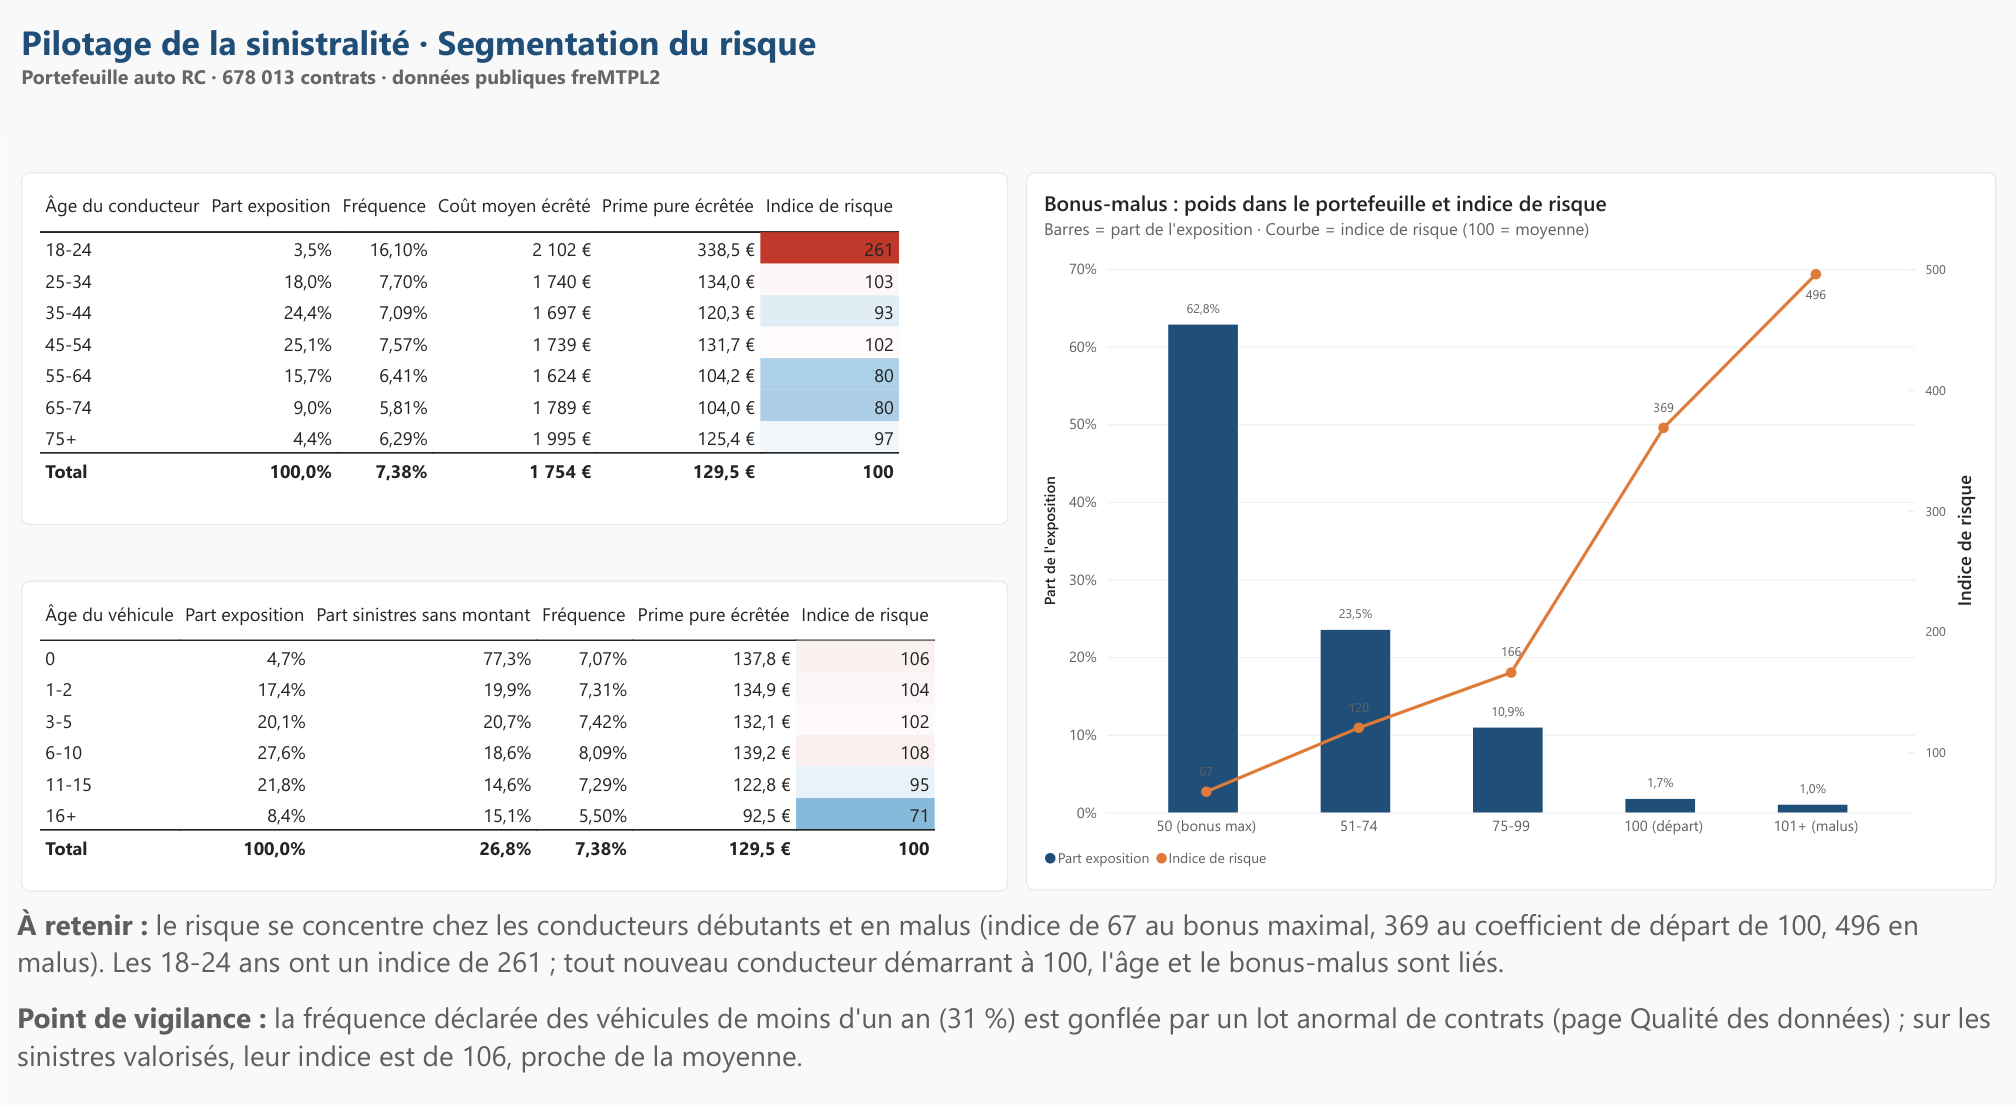

The page's visual inventory and layout, read from the dashboard file:
{"tool":"powerbi","page":{"name":"Segmentation du risque","canvas":[1920,1080],"ordinal":2},"visuals":[{"type":"tableEx","fields":{"Values":["dim_driver_age_band.driver_age_band","_Mesures.Part exposition","_Mesures.Fréquence","_Mesures.Coût moyen écrêté","_Mesures.Prime pure écrêtée","_Mesures.Indice de risque"]},"box":[20,163.6,940,336],"z":0},{"type":"tableEx","fields":{"Values":["dim_vehicle_age_band.vehicle_age_band","_Mesures.Part exposition","_Mesures.Part sinistres sans montant","_Mesures.Fréquence","_Mesures.Prime pure écrêtée","_Mesures.Indice de risque"]},"box":[20,552.7,940,296],"z":1},{"type":"lineClusteredColumnComboChart","title":"Bonus-malus : poids dans le portefeuille et indice de risque","fields":{"Category":["dim_bonus_malus_band.bonus_malus_band"],"Y":["_Mesures.Part exposition"],"Y2":["_Mesures.Indice de risque"]},"box":[976.8,163.6,924,684],"z":2},{"type":"textbox","box":[16,861.5,1884,196],"z":3},{"type":"textbox","box":[20,16.7,1880.2,126.9],"z":4}]}

Visuals, with their boxes in screenshot pixels (x1, y1, x2, y2), scaled from the page's 1920x1080 canvas onto the 2016x1105 screenshot:
tableEx - dim_driver_age_band.driver_age_band x _Mesures.Part exposition: {"x1": 21, "y1": 167, "x2": 1008, "y2": 511}
tableEx - dim_vehicle_age_band.vehicle_age_band x _Mesures.Part exposition: {"x1": 21, "y1": 565, "x2": 1008, "y2": 868}
"Bonus-malus : poids dans le portefeuille et indice de risque" lineClusteredColumnComboChart: {"x1": 1026, "y1": 167, "x2": 1996, "y2": 867}
textbox: {"x1": 17, "y1": 881, "x2": 1995, "y2": 1082}
textbox: {"x1": 21, "y1": 17, "x2": 1995, "y2": 147}
